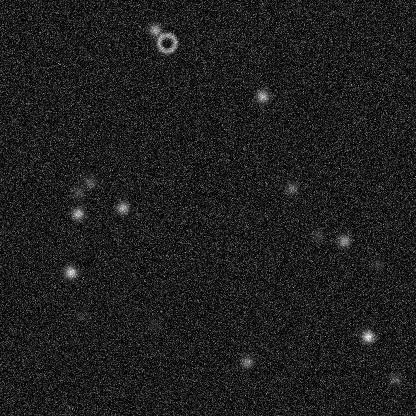Ring: (154, 30, 178, 54)
Spot: (336, 232, 352, 248), (62, 264, 78, 280), (284, 180, 300, 196), (359, 328, 375, 344), (70, 184, 86, 200), (81, 174, 97, 190), (146, 21, 162, 37), (254, 88, 270, 104), (238, 354, 254, 370), (114, 199, 130, 215), (369, 256, 385, 272), (75, 306, 91, 322), (144, 317, 160, 333), (387, 371, 403, 387), (309, 226, 325, 242), (69, 205, 85, 221)
